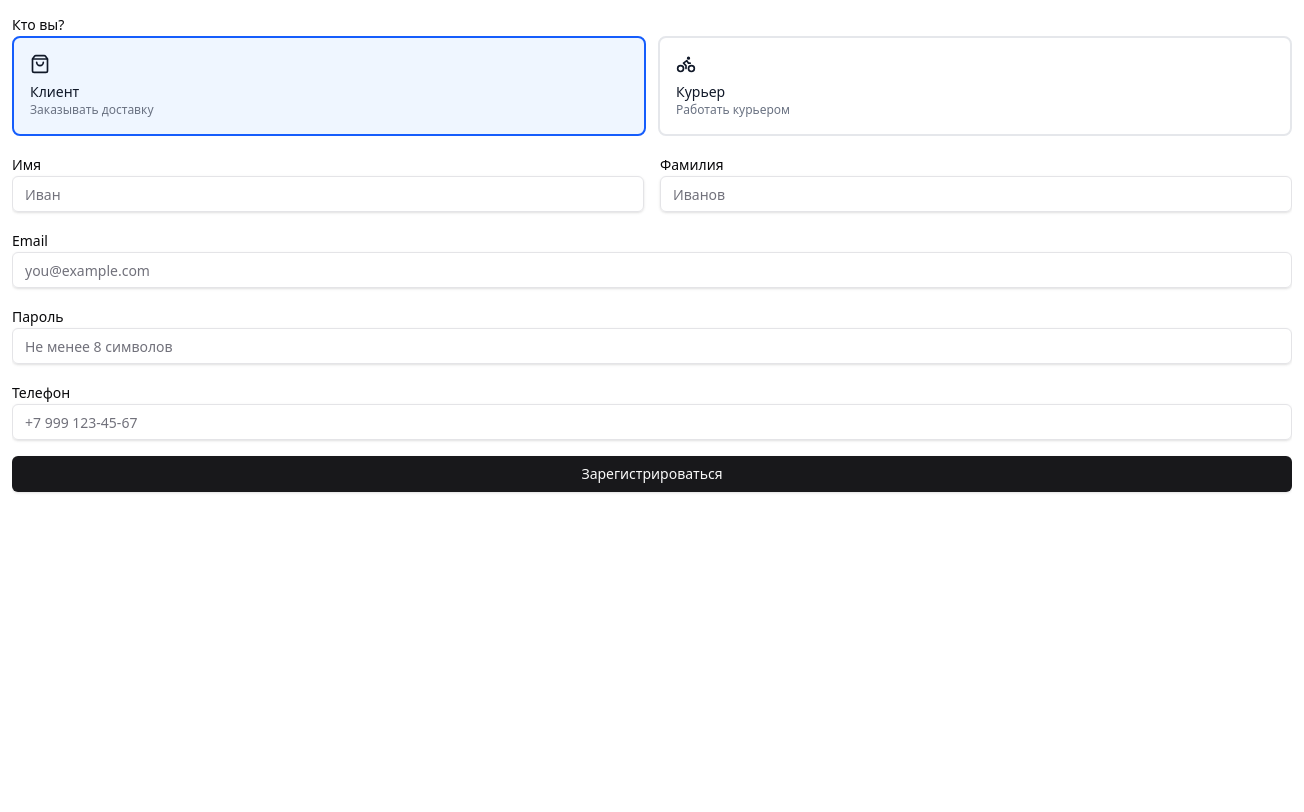
Scenario: RegisterForm › shows inline errors on empty submit
// Clear pre-filled name fields if any — defaults should be empty
Click the button "Зарегистрироваться".
click(652, 474)  # box left=12, top=456, right=1292, bottom=492
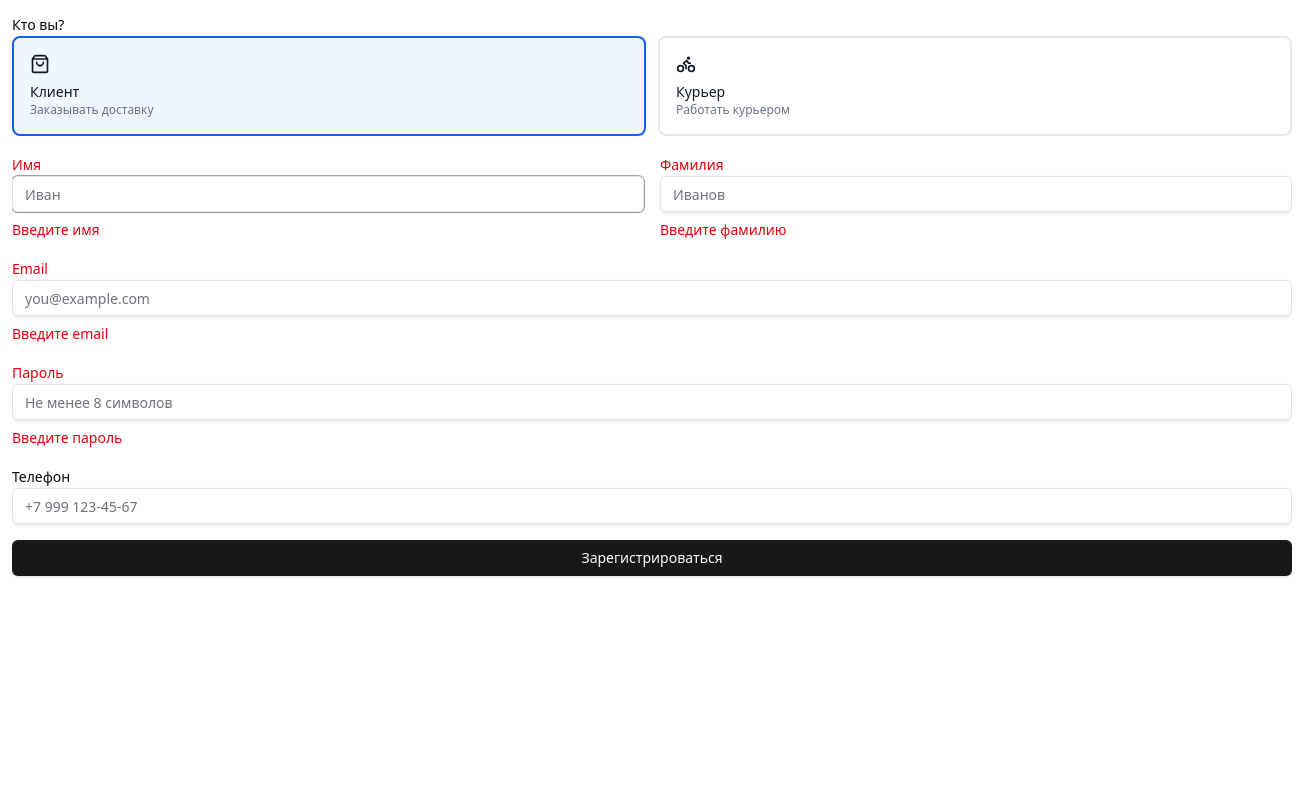
Expected: the text "Введите email" is shown, left=12, top=324, right=108, bottom=343
Expected: the text "Введите пароль" is shown, left=12, top=428, right=122, bottom=447
Expected: the text "Введите имя" is shown, left=12, top=220, right=100, bottom=239
